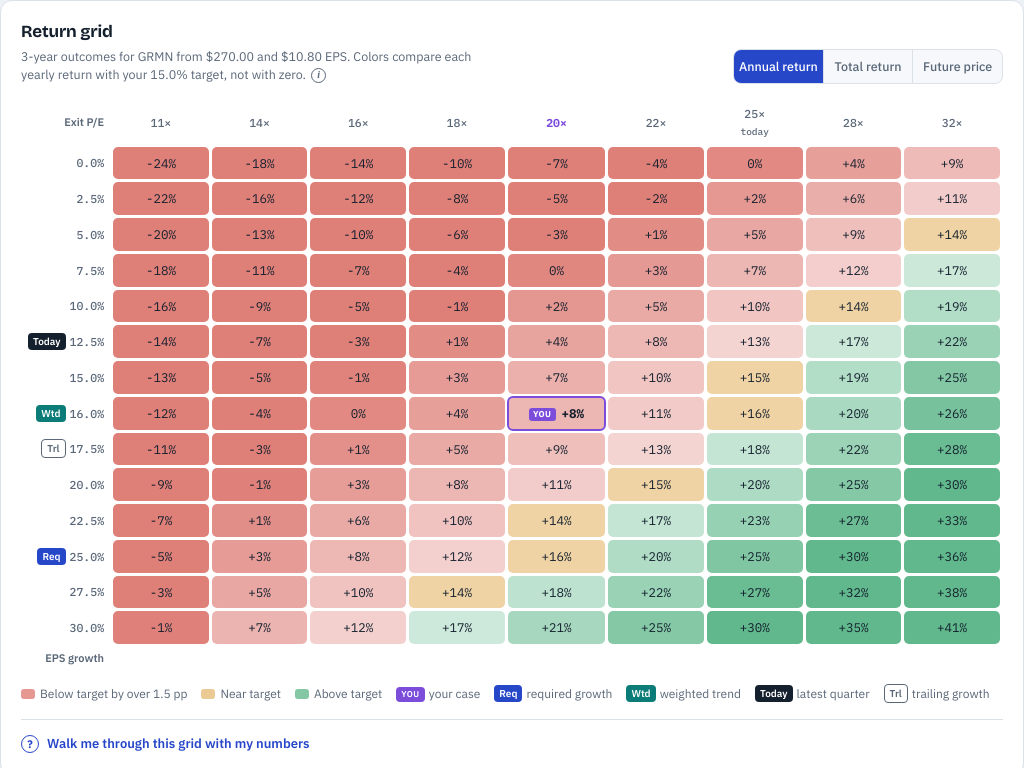
Test: the return grid › switches the cells between yearly return, total return and future price
The width and height of the screenshot is (1024, 768).
Step 1. Click the button "Total return" → (868, 67), box [823, 50, 912, 83]
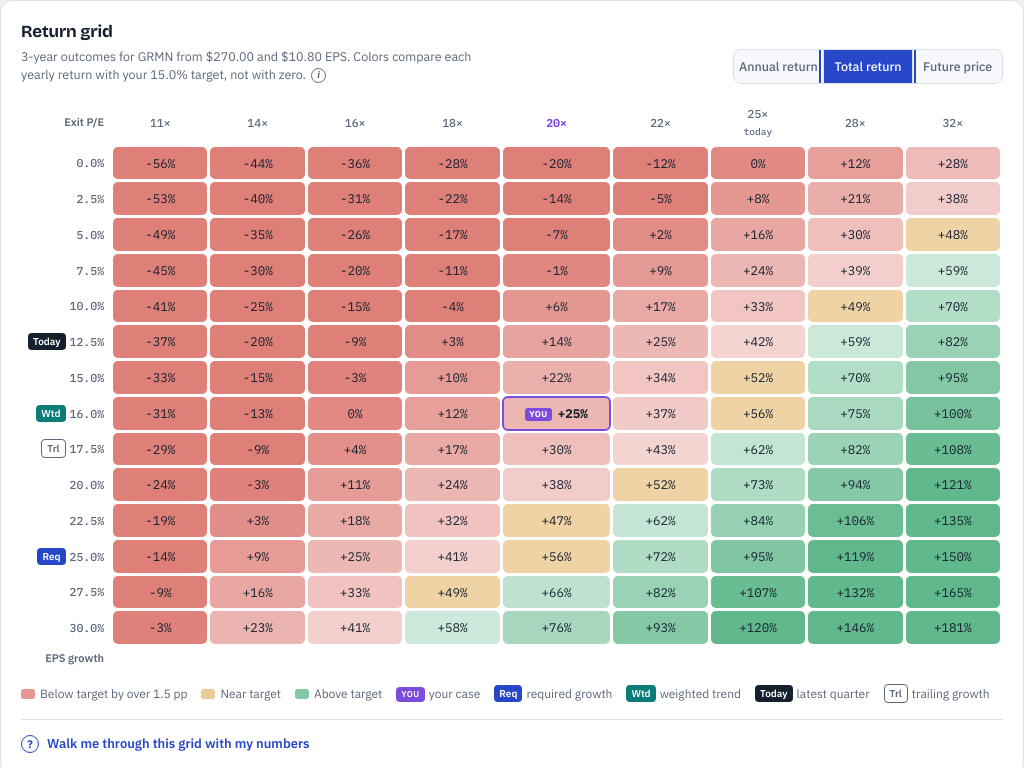
Expected: the cell "YOU +25%" is shown, [503, 397, 610, 430]
Step 2. Click the button "Future price" → (957, 67), box [912, 50, 1002, 83]
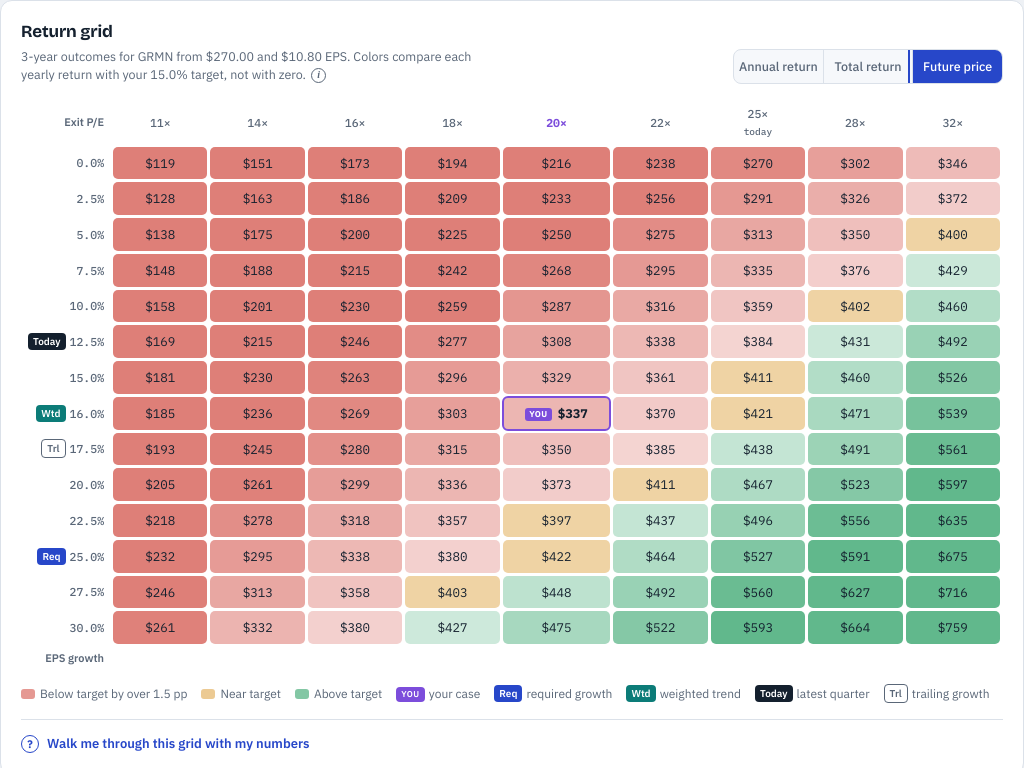
Expected: the cell "YOU $337" is shown, [503, 397, 610, 430]
Step 3. Click the button "Annual return" → (778, 67), box [734, 50, 823, 83]
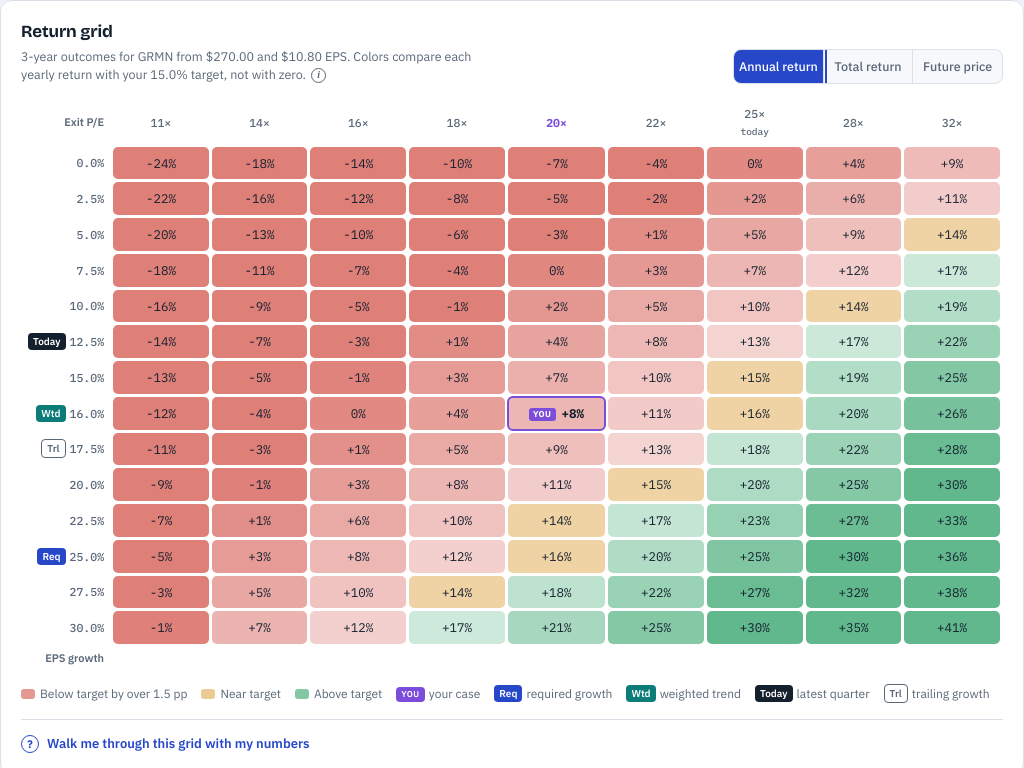
Expected: the cell "YOU +8%" is shown, [508, 397, 605, 430]
